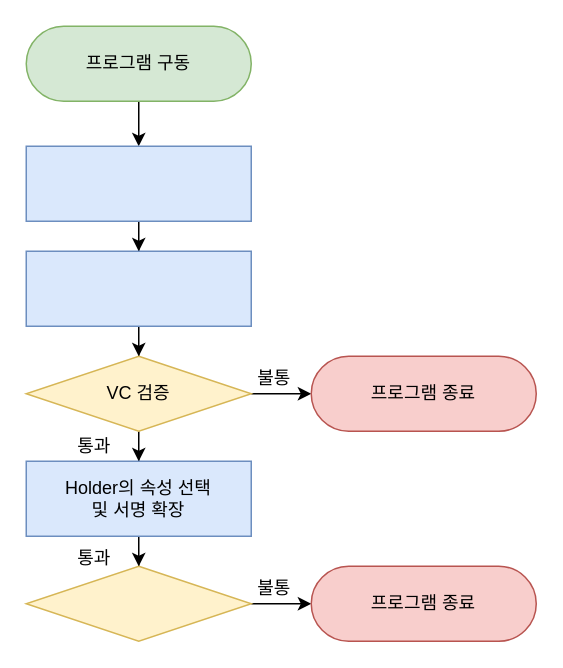
This 563x668 diagram has some shape labels left out. Each missing label, with the centre of its shape:
DID 문서 로드: (138,183)
Issuer의 VC 서명: (138,288)
VP 검증: (138,603)
